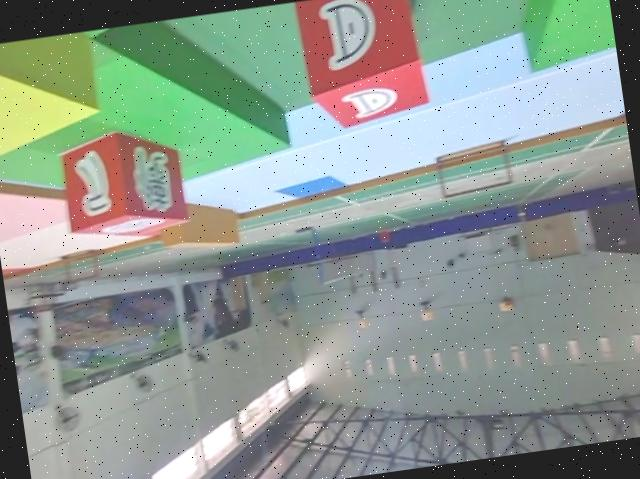R2 Fake: (56, 123, 190, 247)
R2 Real: (291, 0, 431, 136)
